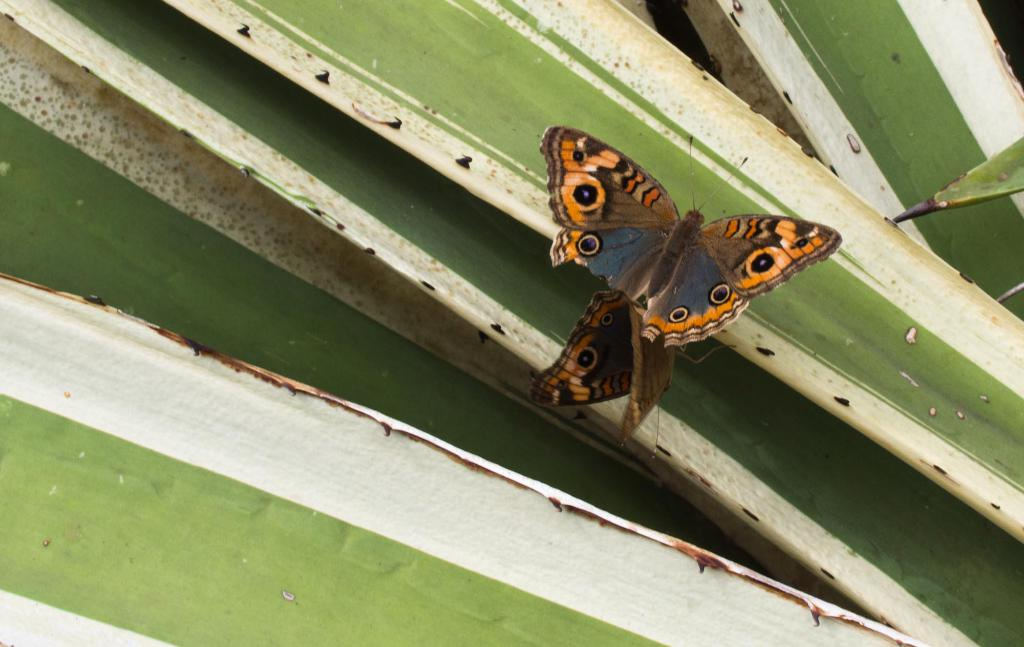Butterfly: (506, 106, 807, 456)
